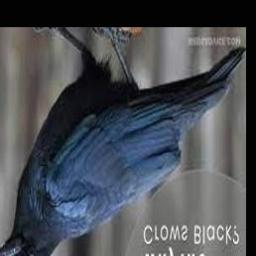Crow: (0, 29, 245, 256)
